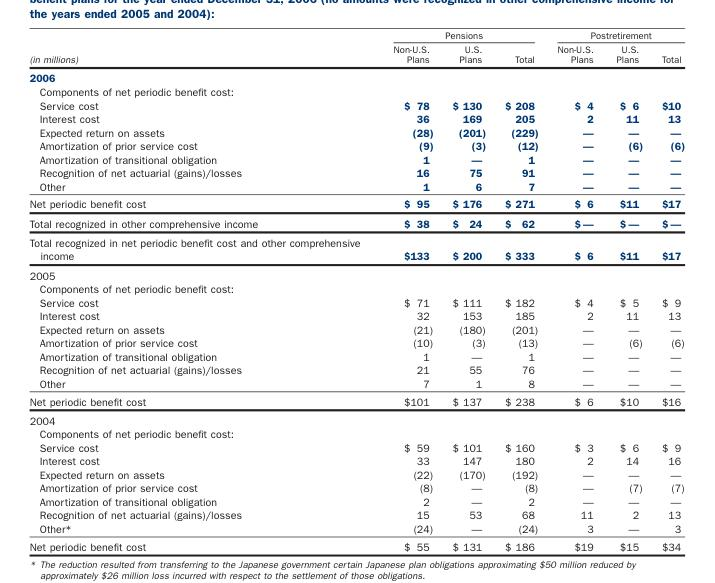table: (28, 29, 684, 551)
table column: (28, 29, 376, 551), (376, 29, 442, 551), (547, 29, 604, 551), (494, 29, 547, 551), (442, 29, 494, 551), (604, 29, 651, 551), (651, 29, 684, 551)
table column header: (28, 29, 684, 67)
table projected row header: (28, 67, 684, 84), (28, 265, 684, 281), (28, 410, 684, 426), (28, 426, 684, 440), (28, 84, 684, 97), (28, 281, 684, 294)
table row: (28, 232, 684, 265), (28, 41, 684, 67), (28, 194, 684, 213), (28, 213, 684, 232), (28, 391, 684, 410), (28, 67, 684, 84), (28, 178, 684, 194), (28, 265, 684, 281), (28, 410, 684, 426), (28, 376, 684, 391), (28, 521, 684, 536), (28, 536, 684, 551), (28, 97, 684, 111), (28, 124, 684, 138), (28, 151, 684, 165), (28, 294, 684, 308), (28, 321, 684, 335), (28, 335, 684, 349), (28, 362, 684, 376), (28, 426, 684, 440), (28, 453, 684, 467), (28, 480, 684, 494), (28, 507, 684, 521), (28, 84, 684, 97), (28, 111, 684, 124), (28, 138, 684, 151), (28, 165, 684, 178), (28, 281, 684, 294), (28, 308, 684, 321), (28, 349, 684, 362), (28, 440, 684, 453), (28, 467, 684, 480), (28, 494, 684, 507), (28, 29, 684, 41)
table spanning cell: (28, 29, 376, 67), (376, 29, 547, 41), (547, 29, 684, 41)
